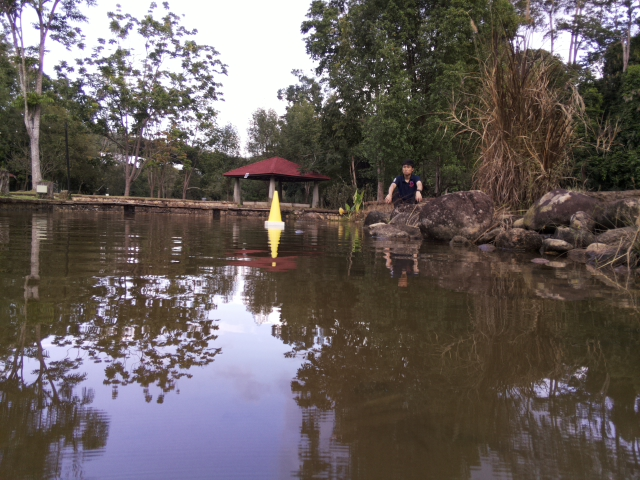checkpoint: (263, 190, 286, 226)
